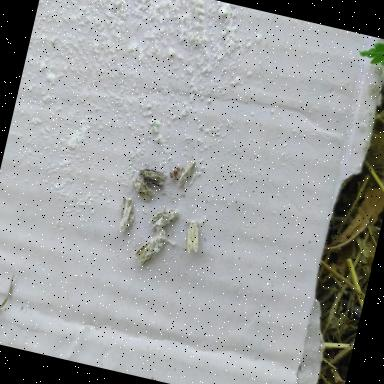pbw: (132, 232, 176, 272), (148, 202, 180, 241), (182, 214, 207, 255), (136, 162, 171, 189), (115, 196, 137, 235), (128, 176, 158, 203), (177, 153, 197, 189)
